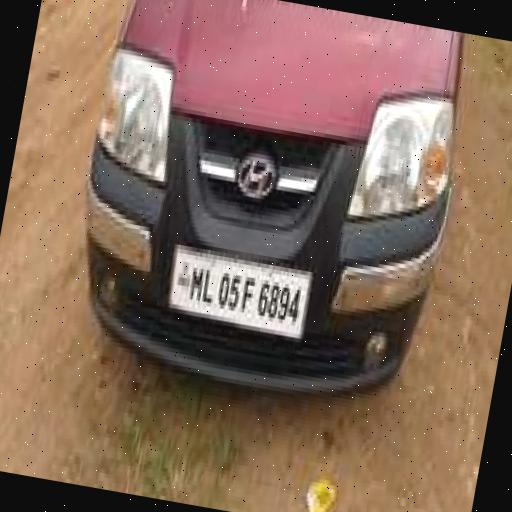license_plate`: (164, 240, 310, 330)
